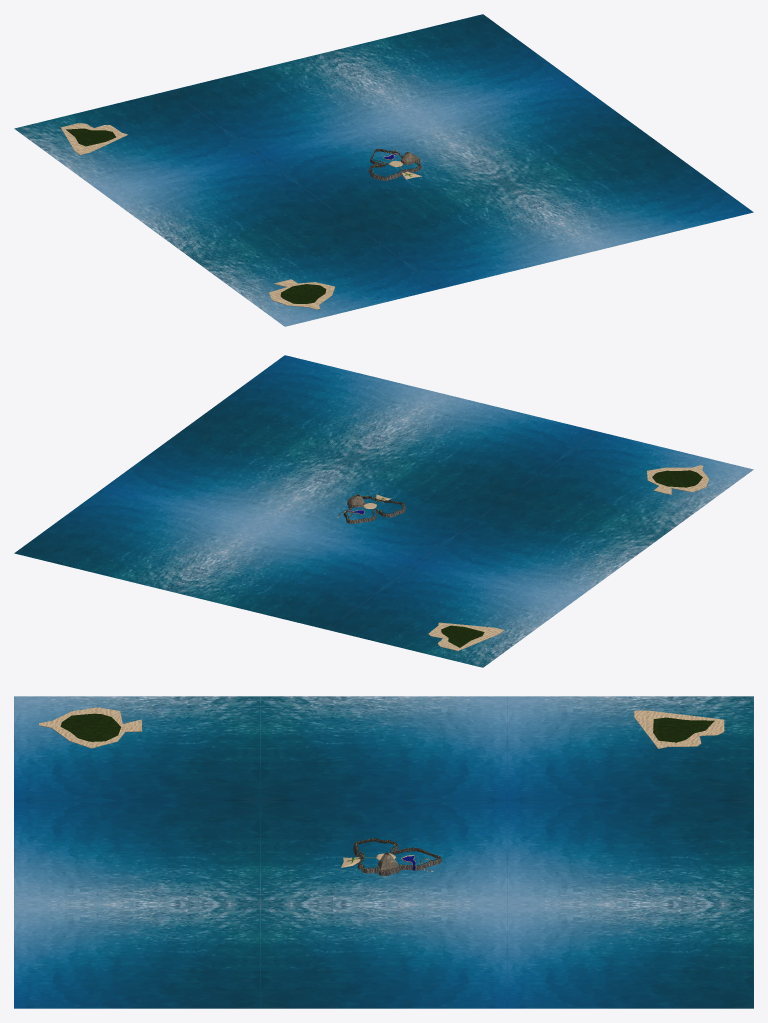
The model's file is Island.glb.
The picture shows the model from 3 angles, top to bottom: view 1: azimuth 30°, elevation 25°; view 2: azimuth 150°, elevation 25°; view 3: azimuth 270°, elevation 25°; orthographic projection. The views are drawn at different scales.
Visible parts, largest first — view 1: Ocean, Spade Island, Heart Island; view 2: Ocean, Spade Island, Heart Island; view 3: Ocean, Spade Island, Heart Island, Island Rock Faces.
Part boxes in pixels (bbox=[...]): Ocean: bbox=[14, 14, 753, 326]; Spade Island: bbox=[269, 279, 334, 309]; Heart Island: bbox=[60, 123, 128, 154]; Ocean: bbox=[14, 355, 753, 667]; Spade Island: bbox=[647, 465, 709, 494]; Heart Island: bbox=[428, 622, 504, 650]; Ocean: bbox=[14, 696, 753, 1008]; Spade Island: bbox=[39, 707, 142, 748]; Heart Island: bbox=[634, 710, 724, 748]; Island Rock Faces: bbox=[353, 838, 441, 875].
Size of what is drawn, in the model's own units: 6263 by 169 by 6265.
19 materials, 11 textured.
